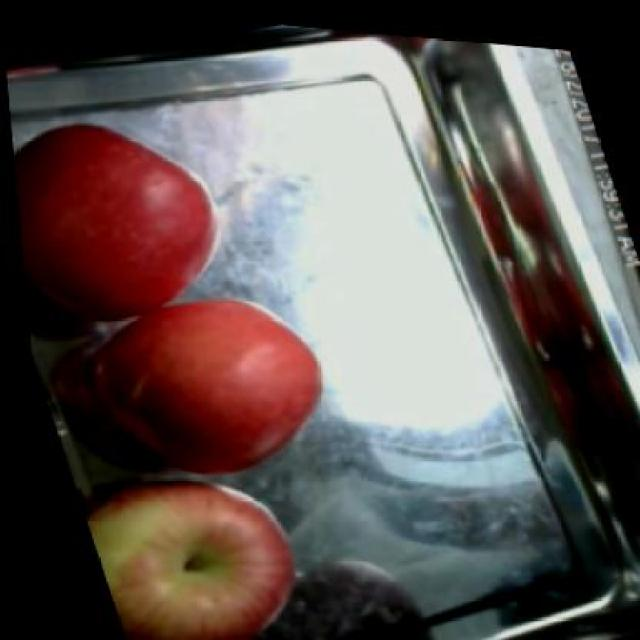Fresh Apple: (74, 303, 341, 479), (8, 120, 203, 312), (96, 483, 296, 631)
